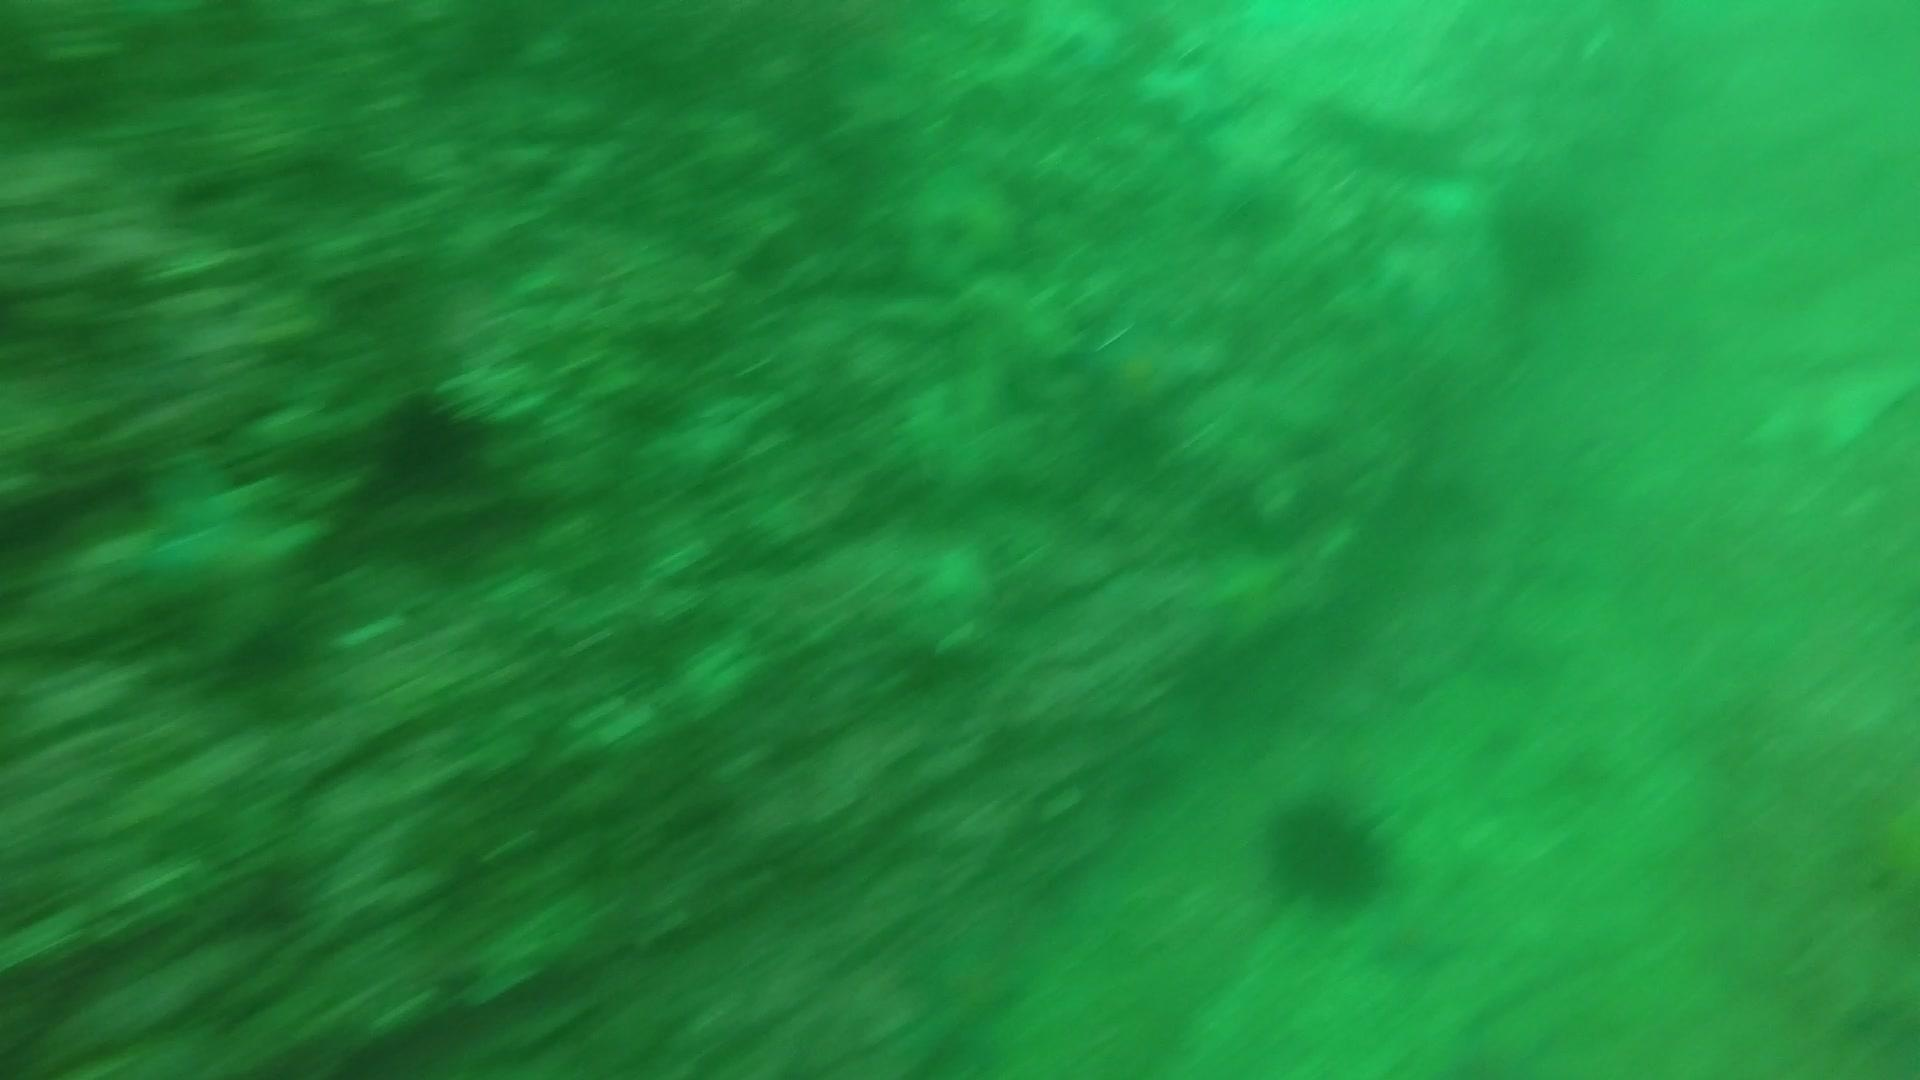echinus: (1257, 783, 1399, 915), (1481, 179, 1602, 301), (367, 382, 492, 492)
starfish: (119, 454, 342, 676), (1741, 349, 1915, 465), (1069, 309, 1216, 439)
